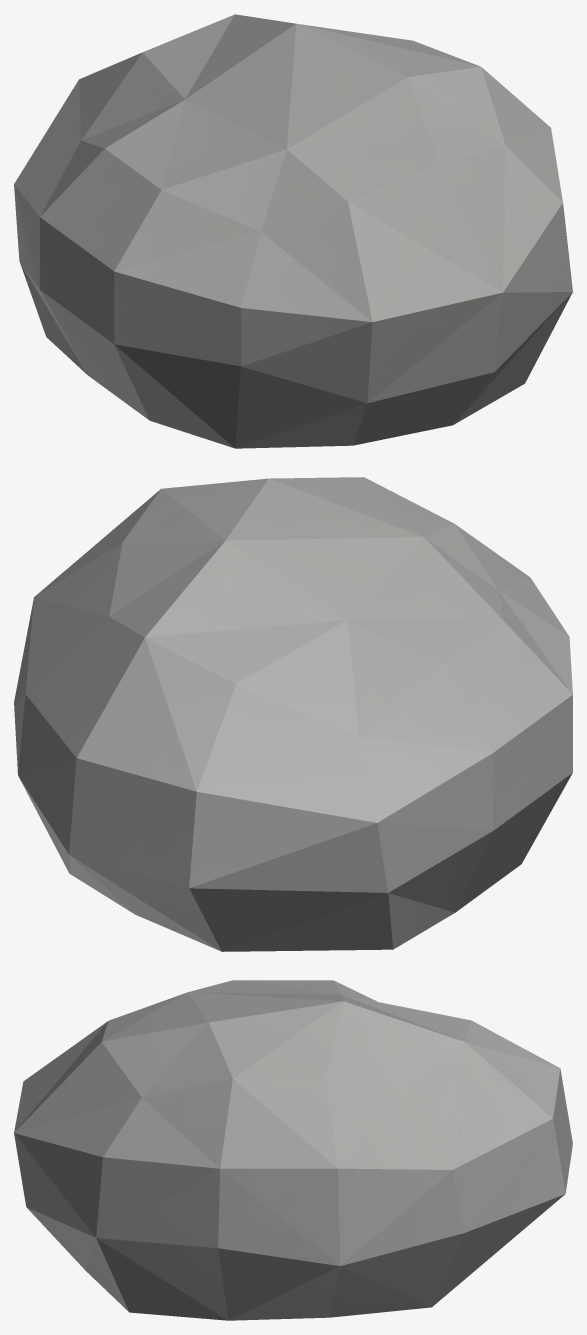
The model's file is stone.01.glb.
The picture shows the model from 3 angles, top to bottom: view 1: azimuth 30°, elevation 25°; view 2: azimuth 150°, elevation 25°; view 3: azimuth 270°, elevation 25°; orthographic projection. The views are drawn at different scales.
Parts seen in each view (by area): view 1: Roundcube.002; view 2: Roundcube.002; view 3: Roundcube.002.
Part boxes in pixels (bbox=[...]): Roundcube.002: bbox=[14, 14, 572, 448]; Roundcube.002: bbox=[14, 477, 572, 951]; Roundcube.002: bbox=[14, 980, 572, 1320].
Size of the model in its own units: 0.172 by 0.1082 by 0.2073.
1 material, 1 textured.
